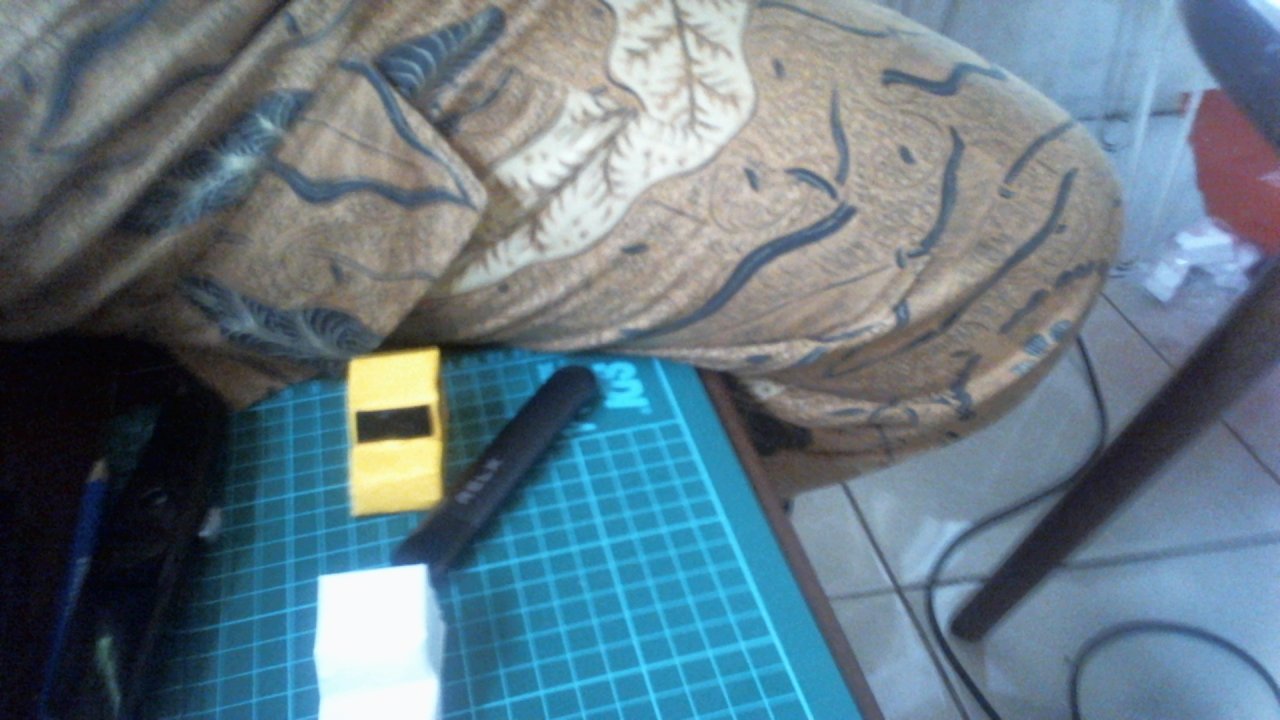Kijang Kapsul: (310, 327, 470, 523)
